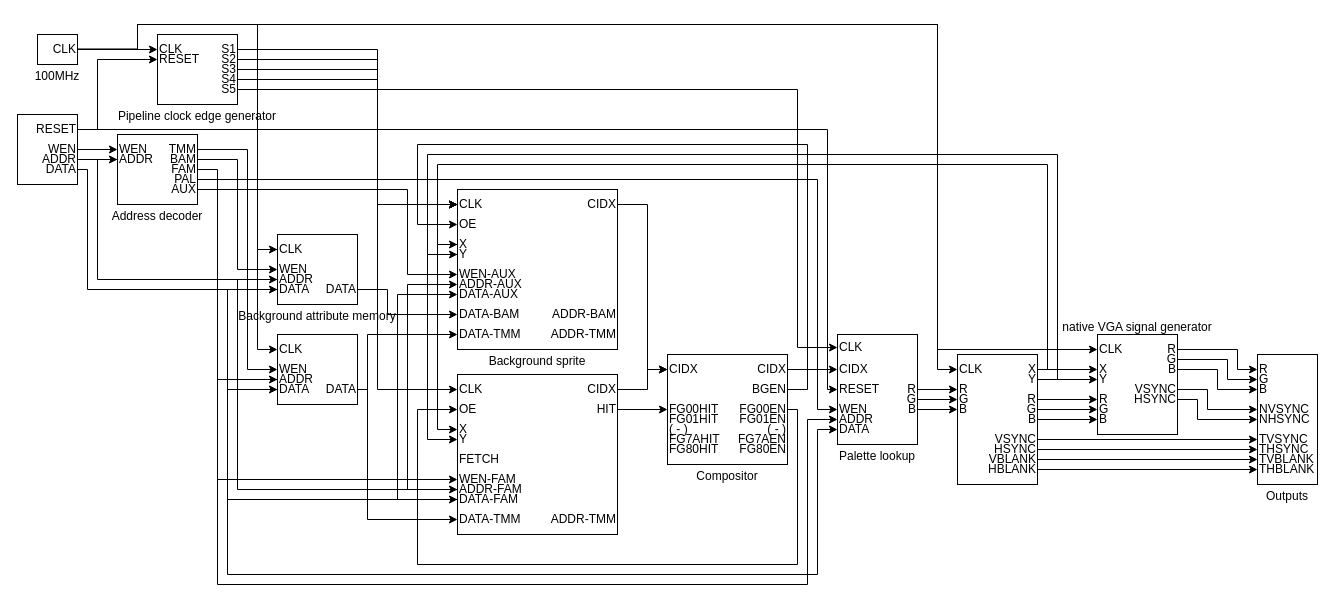
This 1335x610 diagram has some shape labels left out. Here are the shapes that lost their labels. From the top down, the box of each, then its label:
(16, 114, 78, 184): Inputs
(276, 334, 358, 404): Tilemap memory
(956, 354, 1038, 484): tiny VGA signal generator
(456, 374, 618, 534): Foreground sprite
